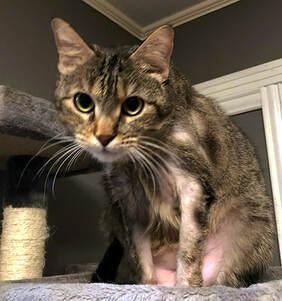hairloss: (178, 178, 197, 258), (207, 219, 228, 284), (132, 232, 157, 283)
